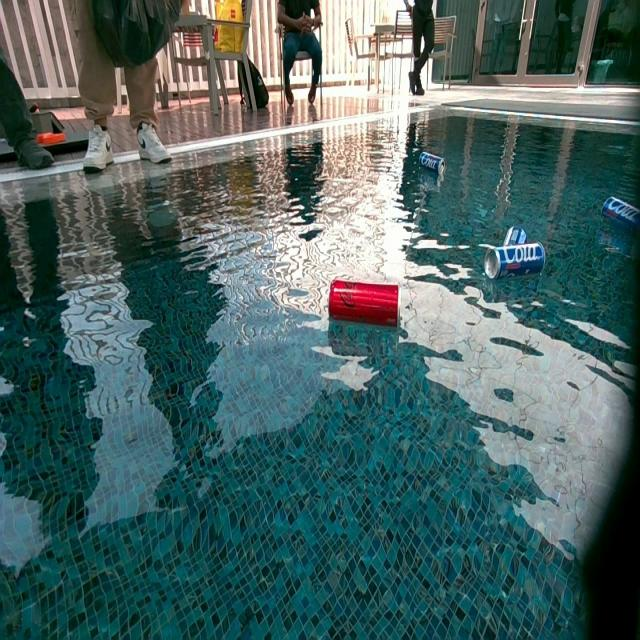Cans: (328, 281, 401, 329), (598, 194, 640, 260), (486, 245, 546, 284), (419, 152, 444, 176), (506, 226, 528, 243)
